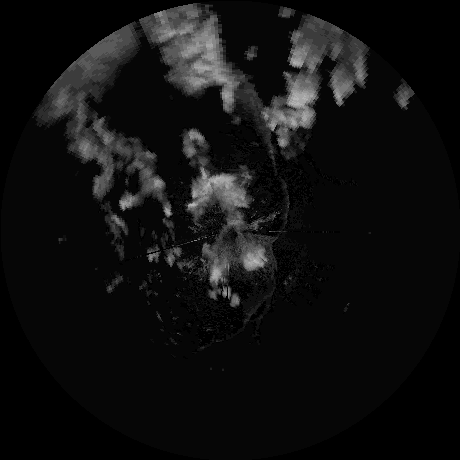frontgust: (269, 130, 291, 247), (242, 261, 277, 330)
